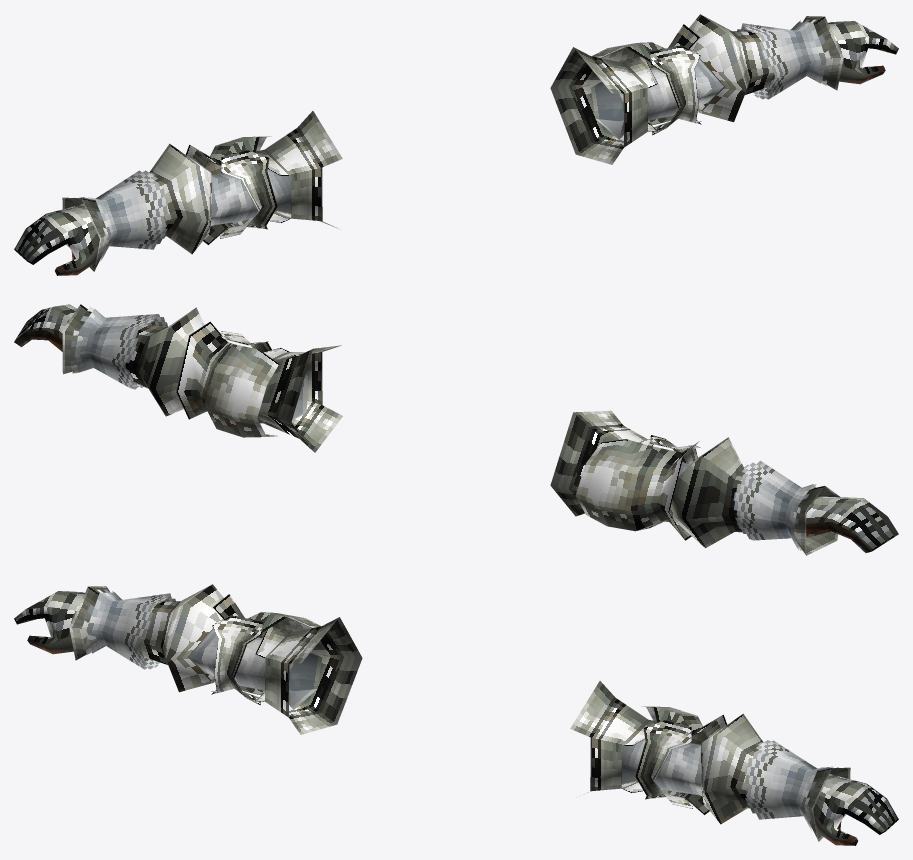
File: f_arm280.glb
The picture shows the model from 3 angles, top to bottom: view 1: azimuth 30°, elevation 25°; view 2: azimuth 150°, elevation 25°; view 3: azimuth 330°, elevation 25°; orthographic projection.
Size of the model in its own units: 172 by 20.02 by 22.07.
1 material, 1 textured.
